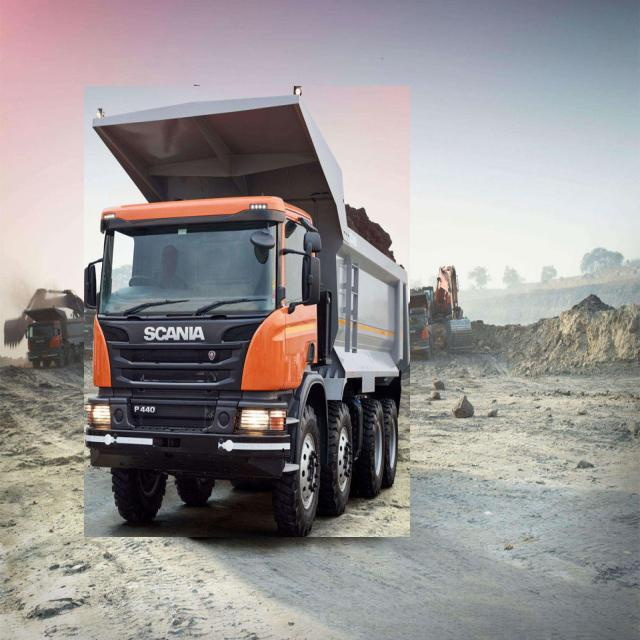truck: (84, 86, 410, 537), (26, 307, 85, 369)
